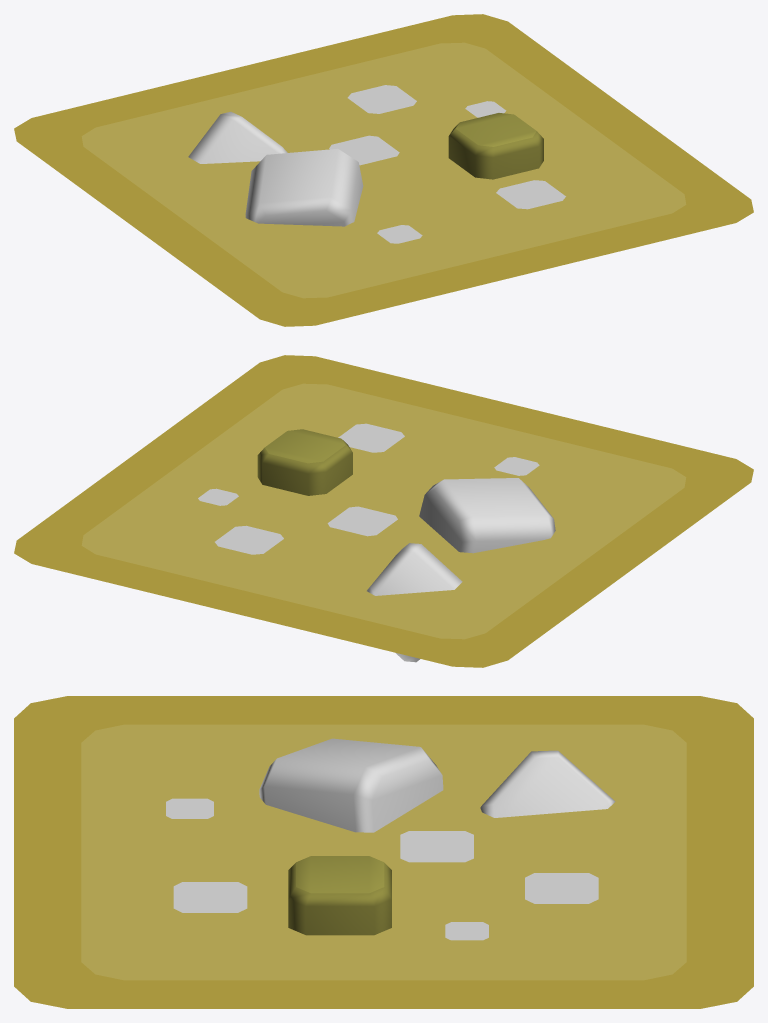
File: BC_cookrecipe_12.fbx
3 renders of one model, top to bottom at view 1: azimuth 30°, elevation 25°; view 2: azimuth 150°, elevation 25°; view 3: azimuth 270°, elevation 25°, orthographic. The views are drawn at different scales.
Visible parts, largest first — view 1: base, cube2, cube1, cube3, boko2, boko1, boko4, boko8; view 2: base, cube2, cube1, cube3, boko4, boko1, boko2, boko8; view 3: base, cube2, cube1, cube3, boko4, boko2, boko1, boko8, boko7.
Part boxes in pixels (bbox=[...]): base: bbox=[14, 14, 753, 326]; cube2: bbox=[245, 148, 363, 226]; cube1: bbox=[448, 113, 543, 179]; cube3: bbox=[188, 111, 287, 163]; boko2: bbox=[496, 180, 565, 209]; boko1: bbox=[347, 85, 416, 113]; boko4: bbox=[329, 135, 399, 165]; boko8: bbox=[377, 225, 422, 243]; base: bbox=[14, 355, 753, 667]; cube2: bbox=[419, 478, 555, 553]; cube1: bbox=[257, 429, 352, 495]; cube3: bbox=[367, 543, 462, 662]; boko4: bbox=[327, 506, 397, 536]; boko1: bbox=[215, 525, 283, 554]; boko2: bbox=[338, 423, 404, 452]; boko8: bbox=[494, 457, 539, 475]; base: bbox=[14, 696, 753, 1008]; cube2: bbox=[259, 738, 443, 832]; cube1: bbox=[288, 856, 391, 935]; cube3: bbox=[480, 750, 615, 817]; boko4: bbox=[400, 831, 473, 862]; boko2: bbox=[173, 882, 247, 912]; boko1: bbox=[525, 873, 598, 903]; boko8: bbox=[166, 798, 213, 818]; boko7: bbox=[445, 922, 488, 940].
Bounding box in the file's own units: 3.5 × 0.8223 × 3.5.
